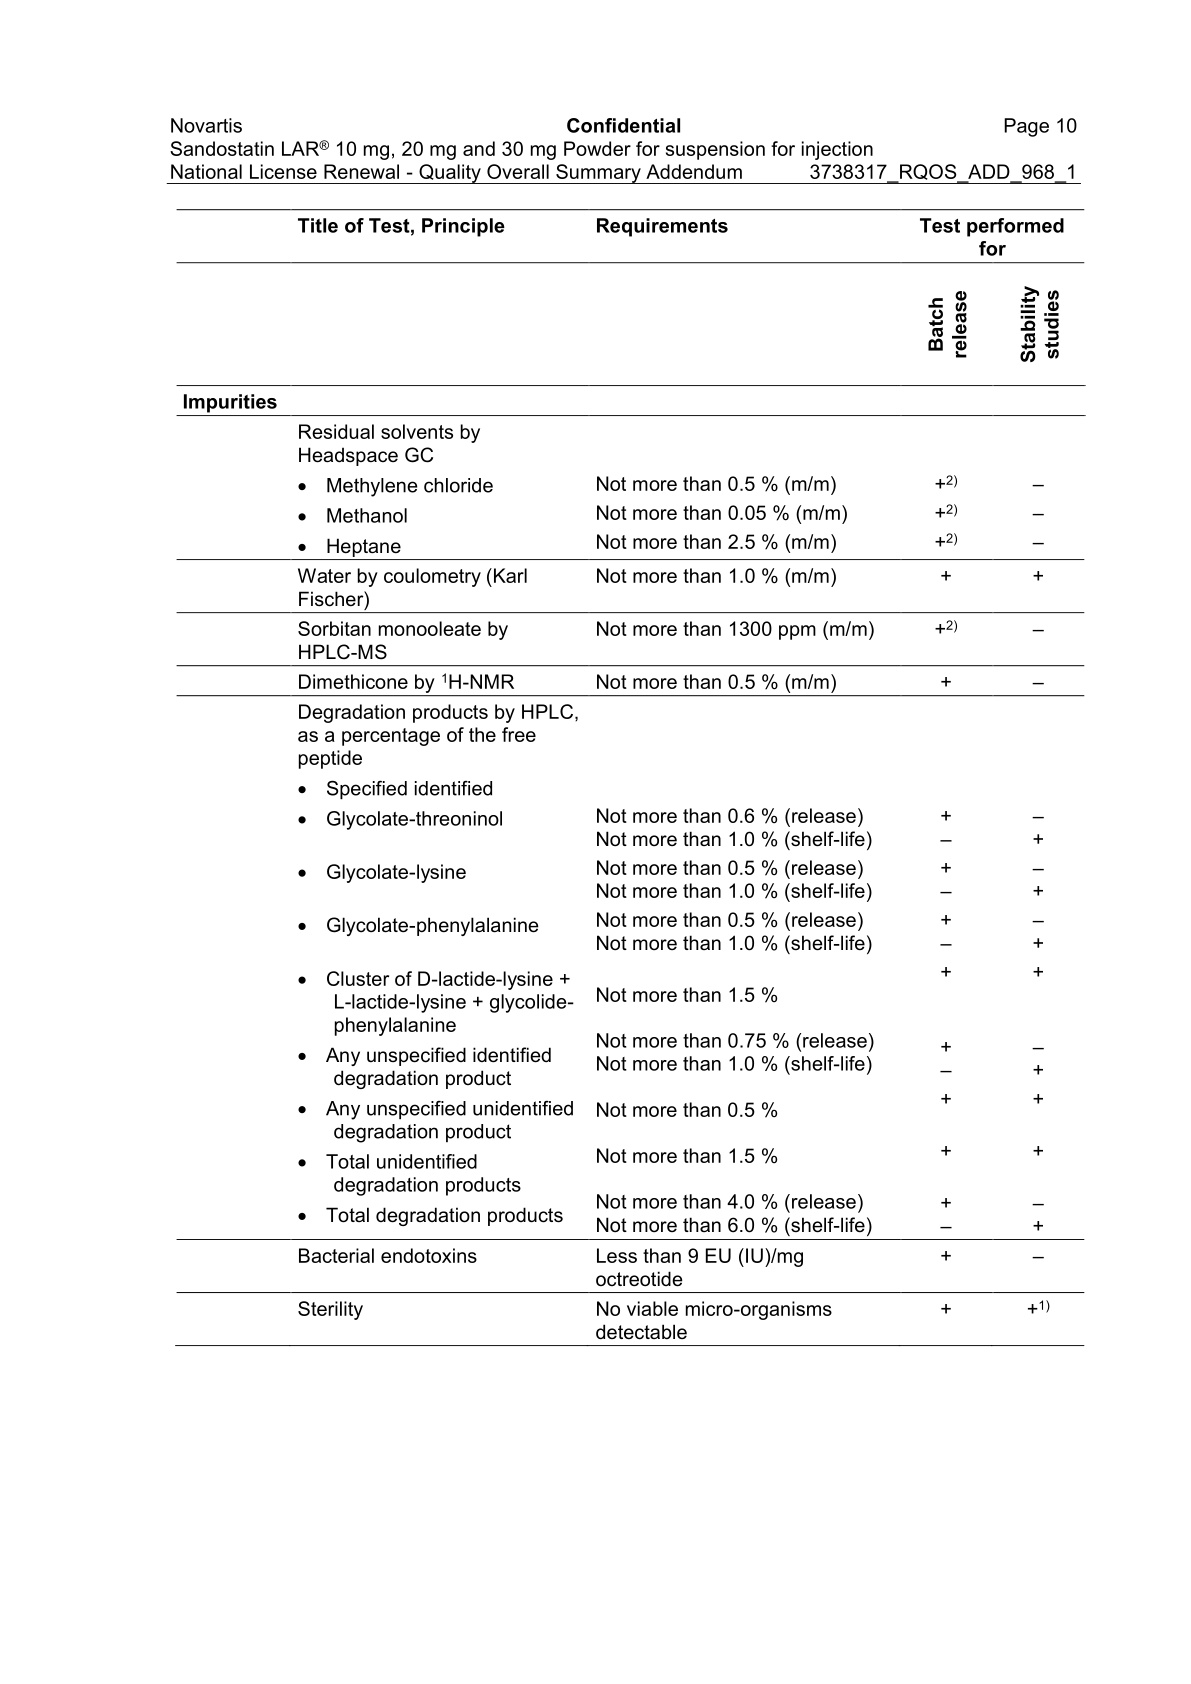partial_lined_merged_cells: (174, 207, 1087, 1350)
